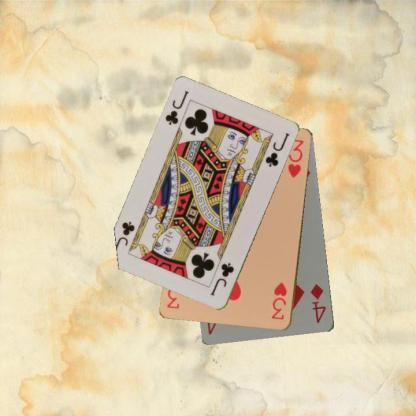3h: (268, 280, 288, 322)
4d: (308, 281, 328, 325)
Jc: (208, 260, 236, 298), (162, 89, 190, 127)
